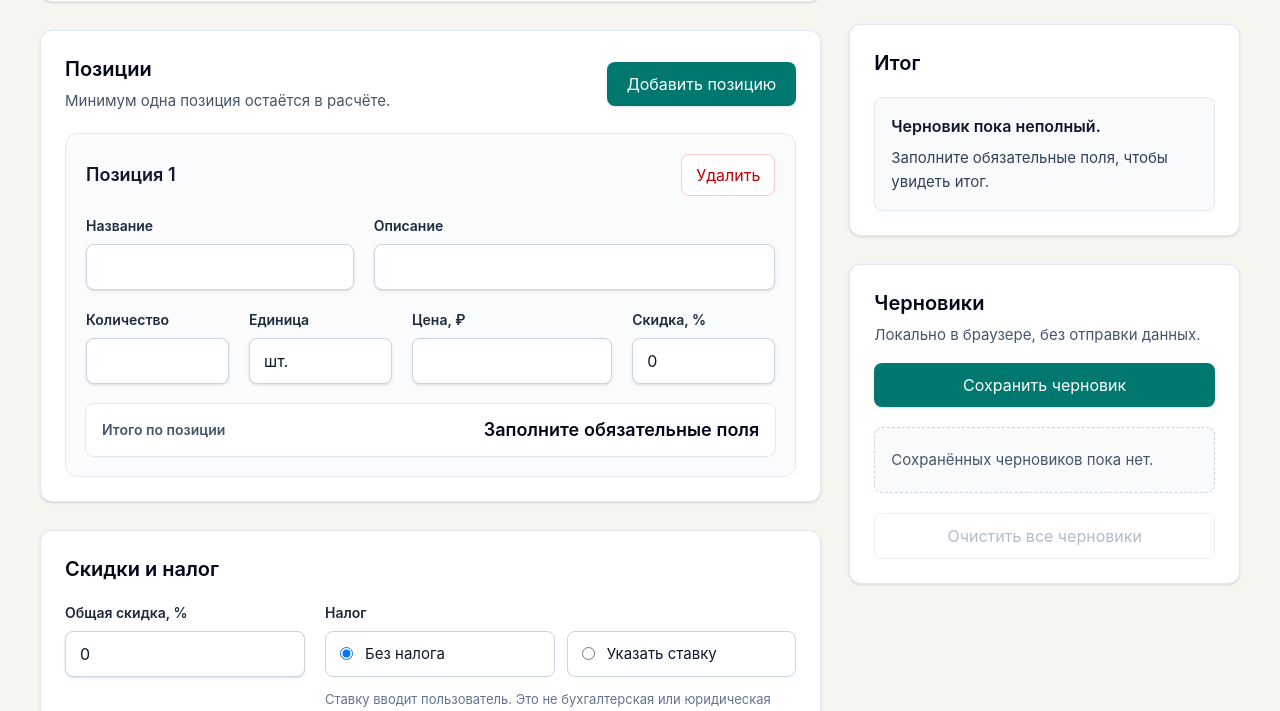
QuoteFlow UI › shows a field error for invalid price after blur
(page scrolled)
Type "12.999" into the field labelled "Цена, ₽" at (512, 361), box 412,338 -> 612,384
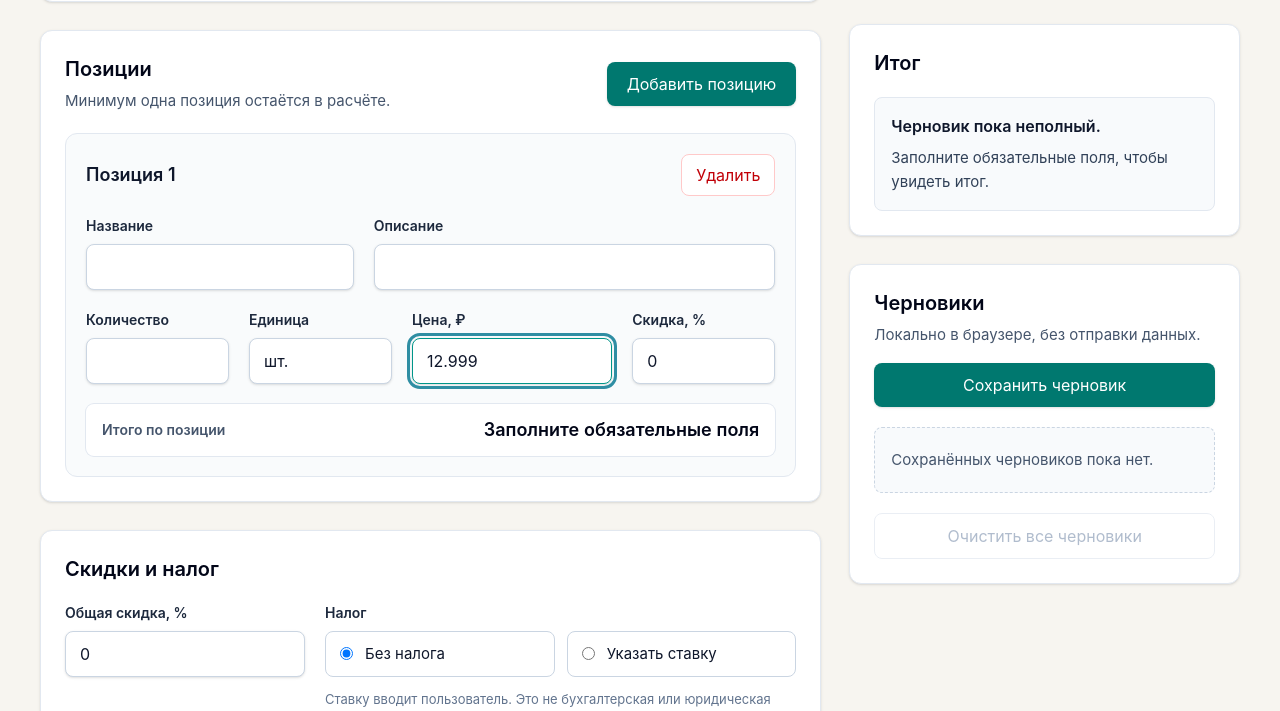
Press Tab
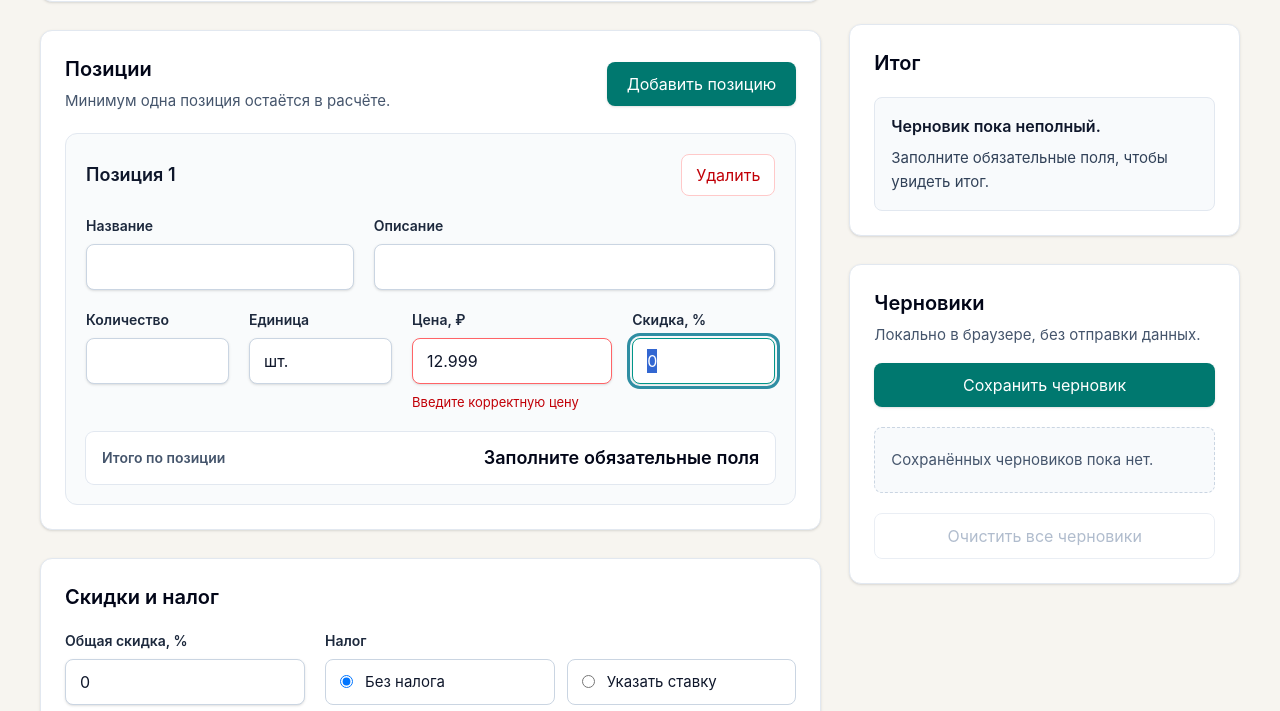
Check: the text "Введите корректную цену" is shown, box 412,394 -> 579,410
